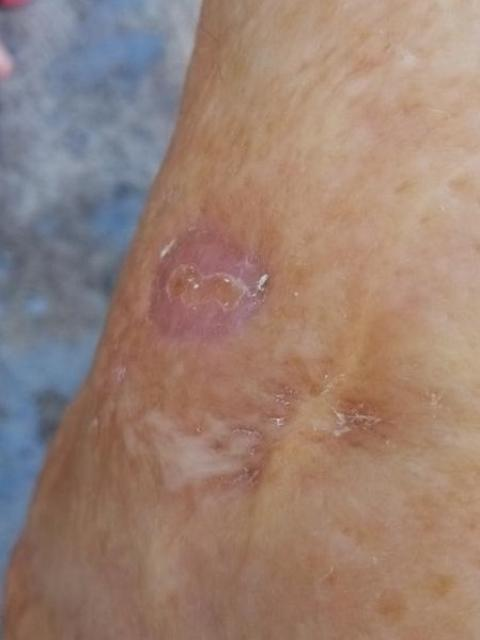wound: (141, 234, 270, 341)
